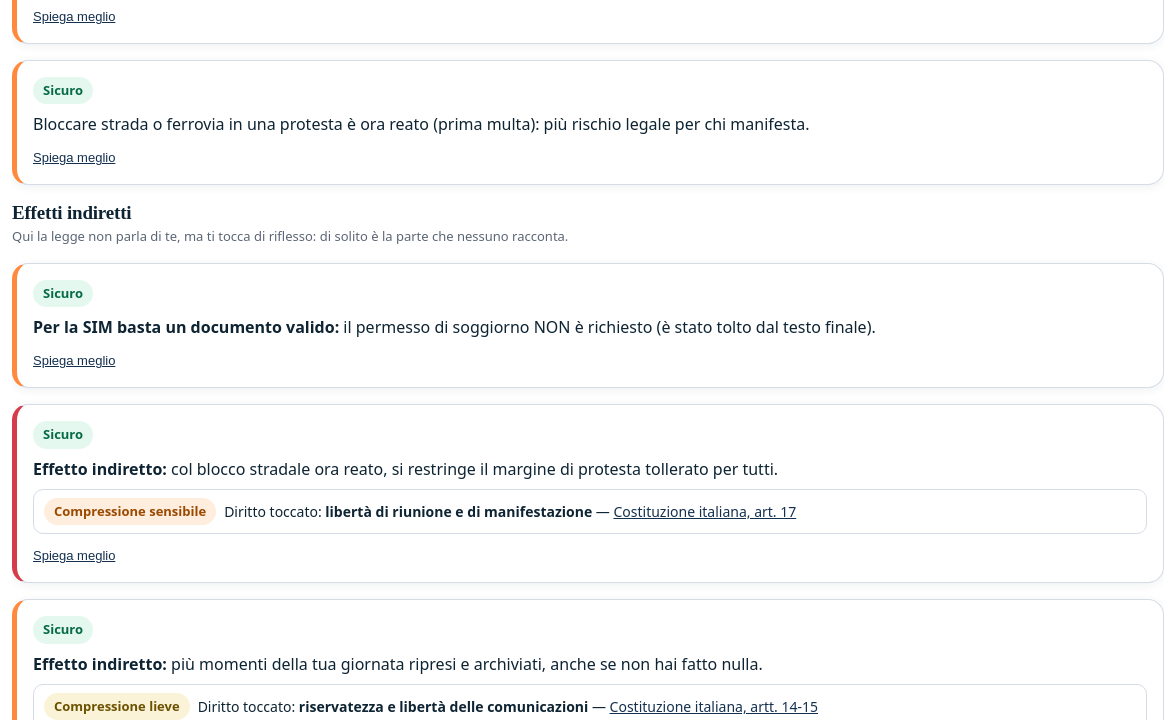
Test: un effetto con frase breve mostra "Spiega meglio" e apre la descrizione completa
(page scrolled)
Expected: the text "Per comprare una SIM telefonica" is not shown
Click the button "Spiega meglio" below "Per la SIM basta un documento valido:" at {"x": 74, "y": 361}, box [33,353,115,368]
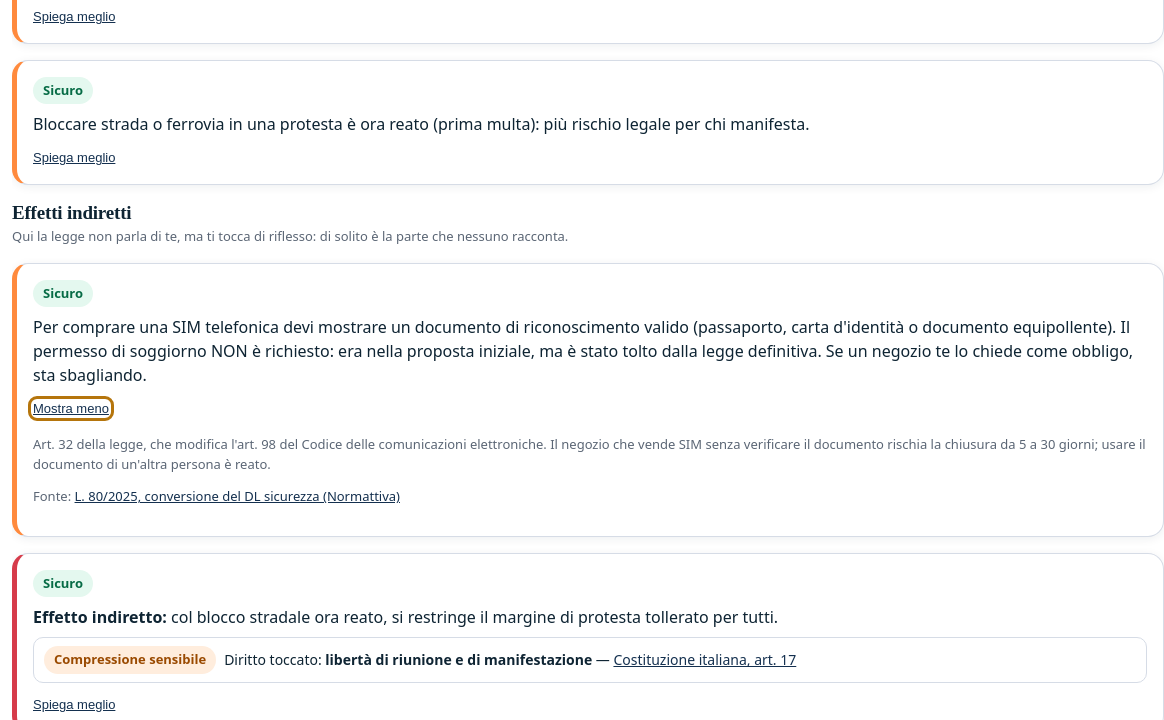
Expected: the text "Per comprare una SIM telefonica" is shown, [33,316,1133,386]
